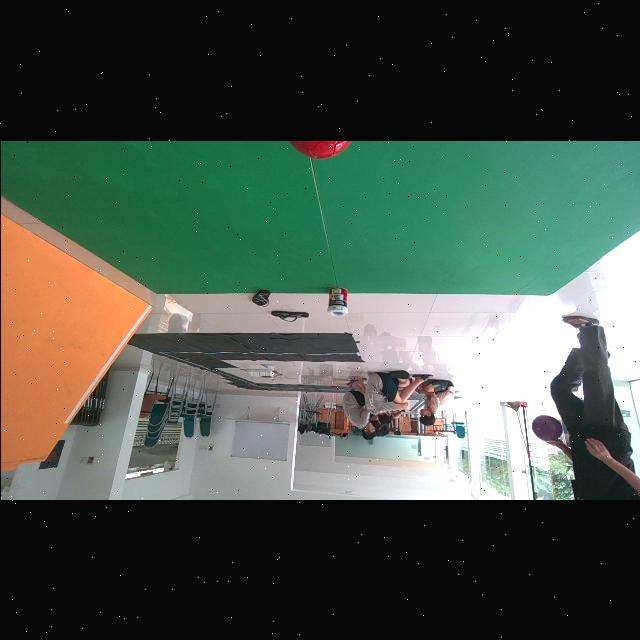P: (530, 415, 562, 442)
R: (288, 140, 351, 159)
